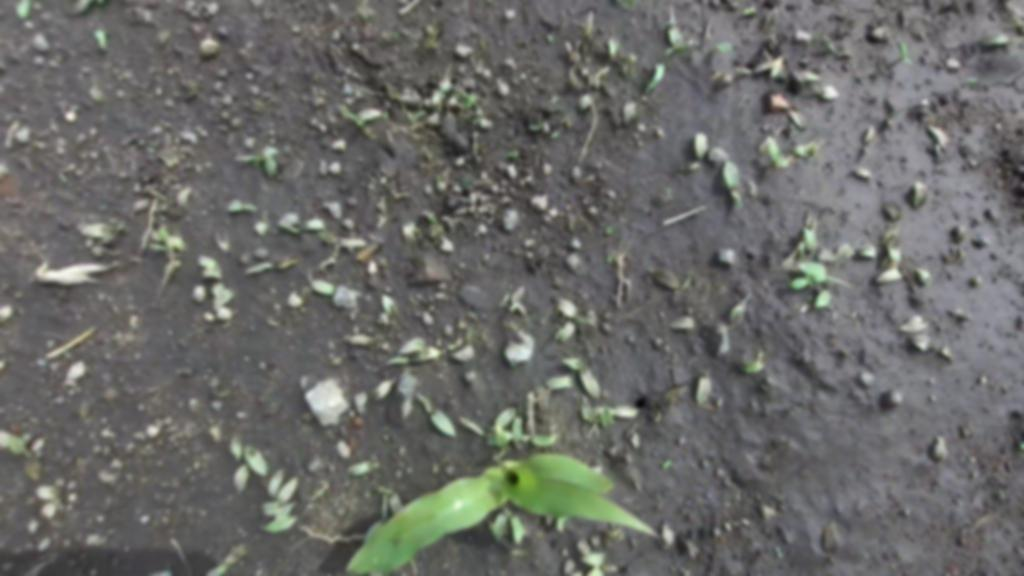BroWeed: (634, 34, 689, 98), (410, 388, 462, 443), (560, 348, 607, 405), (35, 261, 103, 295), (546, 292, 602, 333), (453, 416, 514, 453), (260, 472, 309, 518), (644, 378, 691, 425), (358, 493, 397, 547), (716, 157, 754, 211), (450, 318, 491, 367), (909, 328, 956, 369), (796, 257, 856, 289), (678, 127, 712, 178), (203, 541, 250, 576), (332, 100, 383, 130), (384, 343, 442, 369), (236, 443, 276, 480), (815, 235, 856, 271), (299, 266, 340, 302), (735, 345, 773, 382), (243, 253, 302, 276), (755, 118, 788, 158), (731, 55, 786, 79), (722, 291, 758, 326), (924, 119, 955, 159), (233, 142, 280, 168), (33, 475, 72, 506), (12, 124, 47, 158), (201, 278, 235, 313), (74, 217, 118, 244), (895, 309, 931, 342), (367, 371, 399, 407), (502, 505, 530, 546), (258, 511, 300, 538), (817, 34, 856, 63), (752, 48, 786, 81), (60, 258, 119, 277), (487, 402, 519, 437), (879, 230, 905, 273), (691, 366, 718, 407), (317, 231, 369, 252), (194, 249, 224, 285), (375, 481, 405, 517), (645, 265, 685, 292), (615, 95, 645, 131), (36, 491, 68, 524), (81, 74, 111, 108), (346, 453, 382, 481), (487, 502, 511, 544), (788, 268, 828, 293), (425, 76, 456, 108), (762, 141, 792, 174), (812, 278, 839, 314), (16, 449, 45, 482), (658, 16, 687, 49), (262, 465, 287, 503), (61, 357, 88, 392), (278, 216, 325, 236), (0, 430, 32, 458), (284, 284, 317, 311), (352, 237, 382, 266), (209, 224, 237, 255), (401, 218, 420, 263), (788, 139, 825, 162), (504, 284, 528, 318), (813, 76, 841, 105), (148, 231, 186, 252), (784, 103, 812, 131), (491, 422, 511, 461), (823, 520, 839, 568), (394, 334, 427, 357), (879, 195, 905, 224), (873, 264, 904, 288), (945, 302, 977, 325), (767, 89, 794, 116), (167, 182, 193, 210), (35, 526, 60, 555), (561, 91, 580, 129), (978, 30, 1023, 46), (230, 462, 251, 496), (264, 501, 298, 522), (618, 51, 641, 81), (348, 389, 370, 420), (588, 405, 639, 418), (857, 125, 879, 155), (415, 221, 445, 243), (510, 401, 524, 448), (912, 261, 936, 288), (850, 162, 877, 186), (378, 291, 400, 320), (800, 223, 821, 253), (943, 244, 969, 268), (314, 252, 341, 275), (911, 179, 930, 211), (427, 451, 450, 477), (557, 316, 577, 345), (197, 36, 223, 58), (851, 241, 881, 260), (128, 195, 155, 216), (894, 40, 914, 68), (520, 432, 557, 447), (695, 391, 724, 410), (602, 525, 627, 547), (595, 404, 617, 429), (105, 212, 129, 234), (261, 153, 281, 179), (227, 196, 257, 213), (577, 393, 594, 423), (544, 374, 574, 391), (340, 333, 376, 347), (28, 434, 48, 459), (759, 500, 779, 525), (73, 0, 105, 15), (89, 245, 121, 260), (879, 225, 900, 247), (576, 536, 596, 559), (388, 23, 411, 43), (933, 435, 950, 462), (711, 68, 734, 86), (157, 152, 181, 169), (424, 15, 440, 40), (360, 123, 380, 143), (420, 30, 439, 51), (525, 112, 544, 133), (254, 208, 268, 236), (205, 307, 233, 321), (93, 28, 110, 51), (406, 108, 429, 125), (660, 524, 675, 550), (276, 212, 302, 227), (161, 257, 185, 273), (230, 433, 243, 462), (792, 70, 820, 83), (669, 316, 695, 329), (162, 179, 184, 194), (608, 27, 619, 57), (155, 224, 172, 243), (25, 516, 42, 535), (552, 514, 569, 533), (579, 554, 605, 566), (147, 188, 169, 202), (714, 39, 733, 55), (446, 337, 465, 353), (365, 259, 381, 277), (577, 93, 593, 111), (499, 289, 512, 310), (970, 274, 987, 290), (60, 161, 78, 176), (588, 532, 602, 551), (0, 303, 12, 325), (458, 173, 475, 188), (141, 180, 160, 193), (376, 311, 390, 327), (0, 356, 15, 370), (587, 410, 600, 426), (446, 91, 459, 107), (510, 548, 530, 558), (553, 324, 564, 342), (58, 171, 71, 186), (150, 226, 162, 242), (376, 256, 389, 270), (506, 146, 520, 159), (158, 31, 170, 46), (585, 566, 603, 576), (798, 239, 807, 259), (773, 544, 784, 560), (684, 272, 693, 291), (601, 563, 618, 573), (661, 458, 674, 471), (976, 373, 989, 386), (812, 280, 825, 293), (456, 318, 469, 331), (186, 86, 198, 100), (742, 6, 757, 17), (464, 93, 475, 108), (504, 319, 520, 329), (131, 181, 143, 194), (564, 559, 574, 574), (965, 75, 980, 85), (0, 164, 9, 180), (549, 129, 561, 141), (144, 145, 157, 156), (545, 31, 556, 44), (426, 211, 437, 224), (154, 202, 168, 212), (332, 244, 341, 259), (62, 348, 73, 360), (545, 515, 556, 526), (604, 225, 614, 236), (471, 115, 482, 125), (187, 78, 196, 90), (22, 434, 31, 445), (135, 138, 145, 147), (441, 347, 450, 357), (594, 415, 603, 424), (434, 174, 442, 183), (570, 571, 584, 576), (436, 337, 443, 347), (606, 254, 613, 262), (383, 110, 388, 120), (1019, 443, 1024, 450)
Maize: (332, 430, 662, 576)
